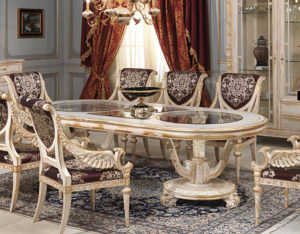Carving Chair: (29, 102, 135, 232)
Carving Table: (153, 106, 249, 212)
